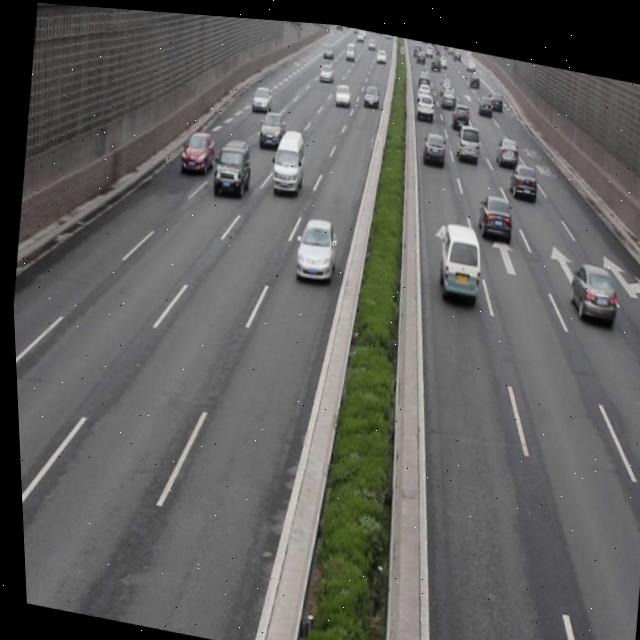car: (563, 248, 618, 317), (288, 208, 337, 281), (208, 131, 252, 197), (174, 122, 214, 176), (471, 183, 510, 237), (451, 114, 482, 158), (254, 103, 284, 148), (505, 152, 536, 193), (418, 121, 446, 163), (492, 126, 517, 159)
truck: (431, 212, 482, 295), (266, 123, 306, 194)
